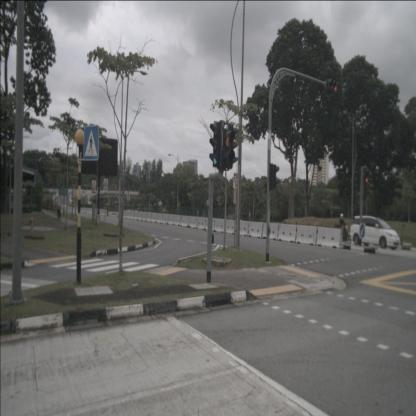vehicle-car: (350, 216, 400, 249)
vehicle-motorcycle: (334, 213, 351, 245)
